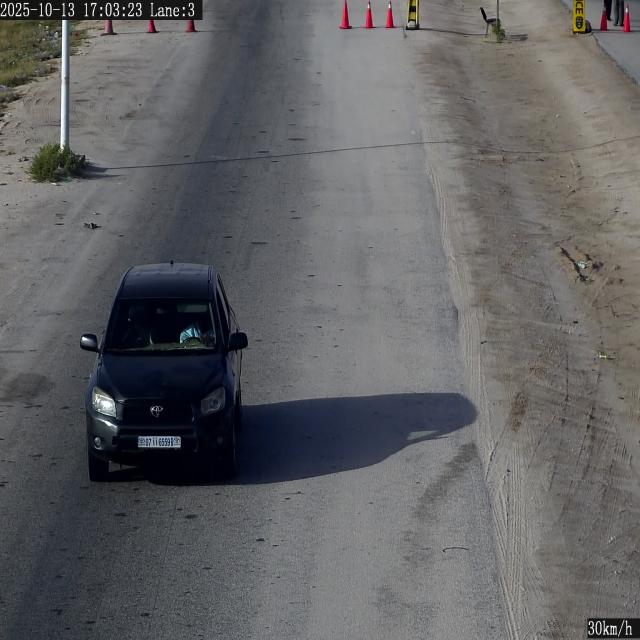BUS: (138, 436, 180, 448)
